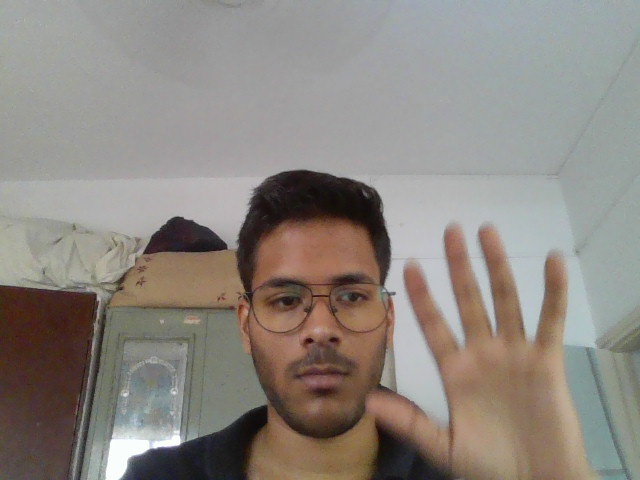hello: (339, 212, 623, 480)
